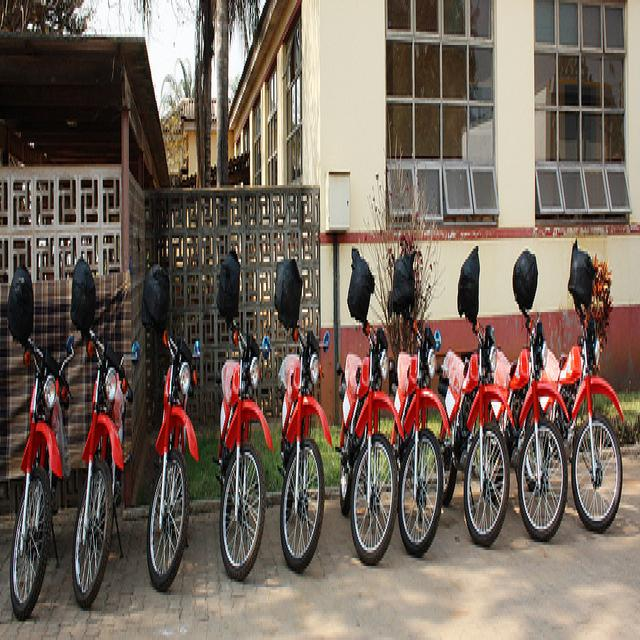motor: (65, 244, 143, 608), (538, 241, 624, 536), (491, 249, 570, 545), (271, 244, 333, 574), (435, 319, 514, 545), (10, 324, 70, 617), (334, 319, 404, 570), (388, 312, 452, 557), (214, 324, 274, 584), (146, 329, 202, 591)
